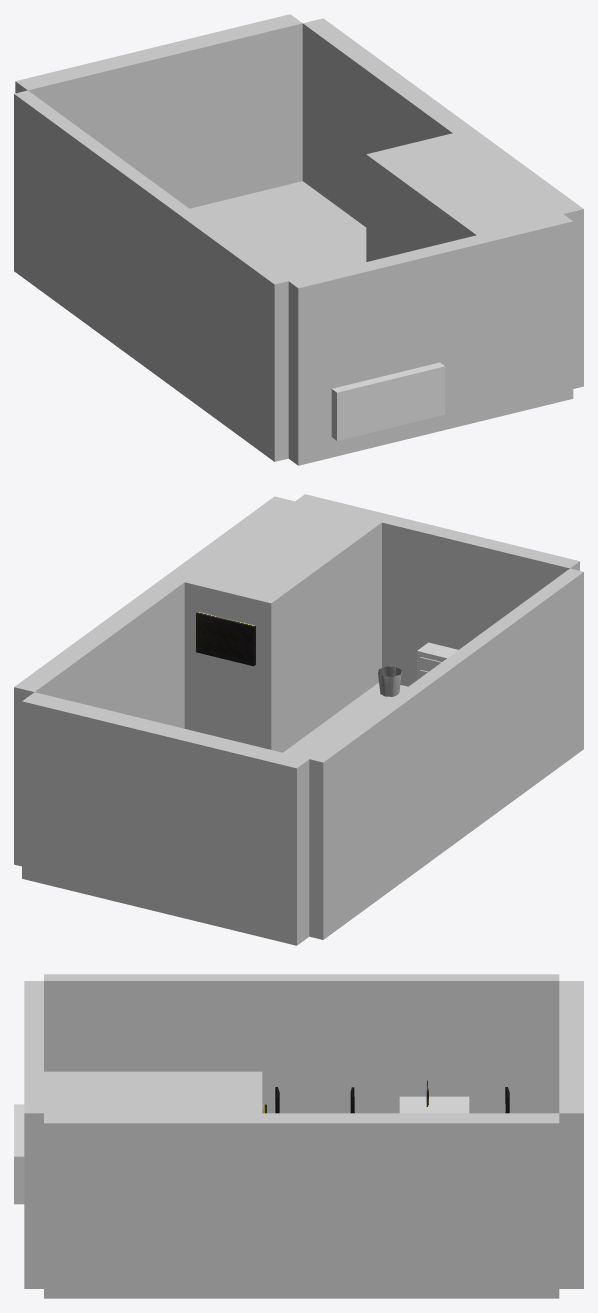
The model's file is ificnia.fbx.
The picture shows the model from 3 angles, top to bottom: view 1: azimuth 30°, elevation 25°; view 2: azimuth 150°, elevation 25°; view 3: azimuth 270°, elevation 25°; orthographic projection.
Parts seen in each view (by area): view 1: Cube, Cube.029; view 2: Cube, Cube.028, Cube.029, Cylinder; view 3: Cube, Cube.019, Cube.029.
Boxes of the visible parts, x1,y1,x2,y2 form: Cube: (14,14,583,465); Cube.029: (331,362,445,440); Cube: (14,494,583,945); Cube.028: (196,611,255,666); Cube.029: (417,642,458,679); Cylinder: (378,666,401,696); Cube: (24,974,583,1298); Cube.019: (399,1096,469,1113); Cube.029: (14,1104,24,1204).
Bounding box in the file's own units: 911 × 499 × 1470.
